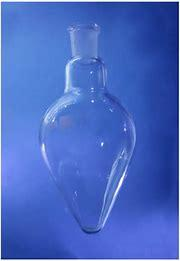Pear shaped flask: (37, 12, 133, 245)
